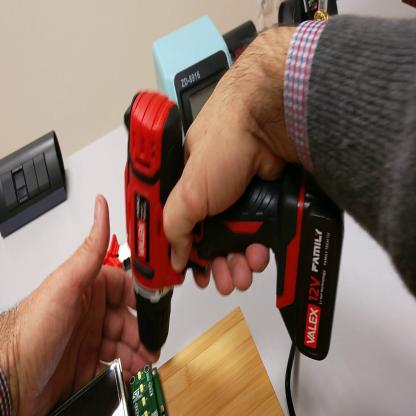electric screwdriver: (123, 88, 304, 361)
hand: (13, 196, 155, 416), (160, 60, 279, 295)
low voltage board: (46, 359, 168, 416)
pliers: (107, 233, 132, 271)
socket: (280, 1, 340, 27), (225, 20, 259, 65)
welder base: (314, 3, 333, 25)
welder station: (153, 12, 235, 146)
working area: (151, 308, 285, 415)
